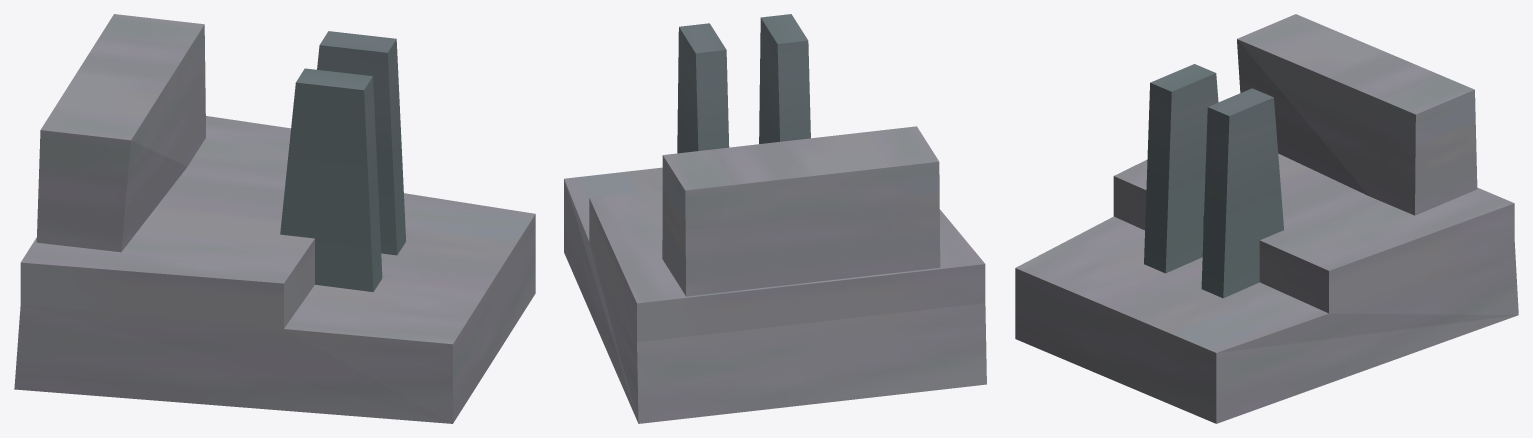
Rendered from lodcarship_03.obj.
3 views of the same model, side by side, from view 1: azimuth 30°, elevation 25°; view 2: azimuth 150°, elevation 25°; view 3: azimuth 270°, elevation 25° (orthographic). The views are drawn at different scales.
Parts seen in each view (by area): view 1: LODcarship_03; view 2: LODcarship_03; view 3: LODcarship_03.
Boxes of the visible parts, <box> form: LODcarship_03: <box>14,14,535,423</box>; LODcarship_03: <box>564,14,986,423</box>; LODcarship_03: <box>1015,14,1518,423</box>.
Bounding box in the file's own units: 40.54 × 22.29 × 40.59.
Materials: 1 (1 with a texture image).
